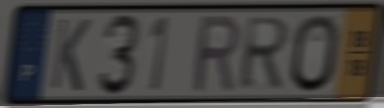1: (148, 14, 171, 95)
3: (97, 11, 142, 98)
K: (47, 16, 94, 95)
O: (289, 12, 342, 95)
R: (237, 15, 293, 93), (191, 12, 241, 96)
